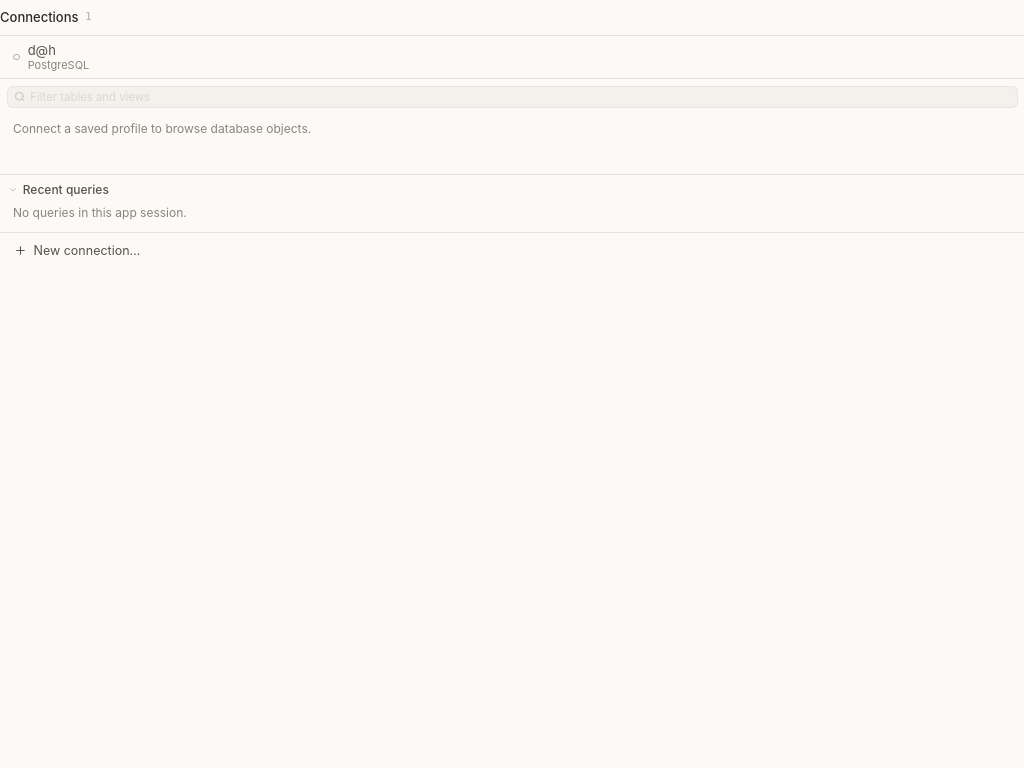
Scenario: DatabaseNavContent saved connections › keeps the database navigation usable after a successful reconnect closes automatically
Click the text "d@h" at x=42, y=50, box [28,42,56,58]
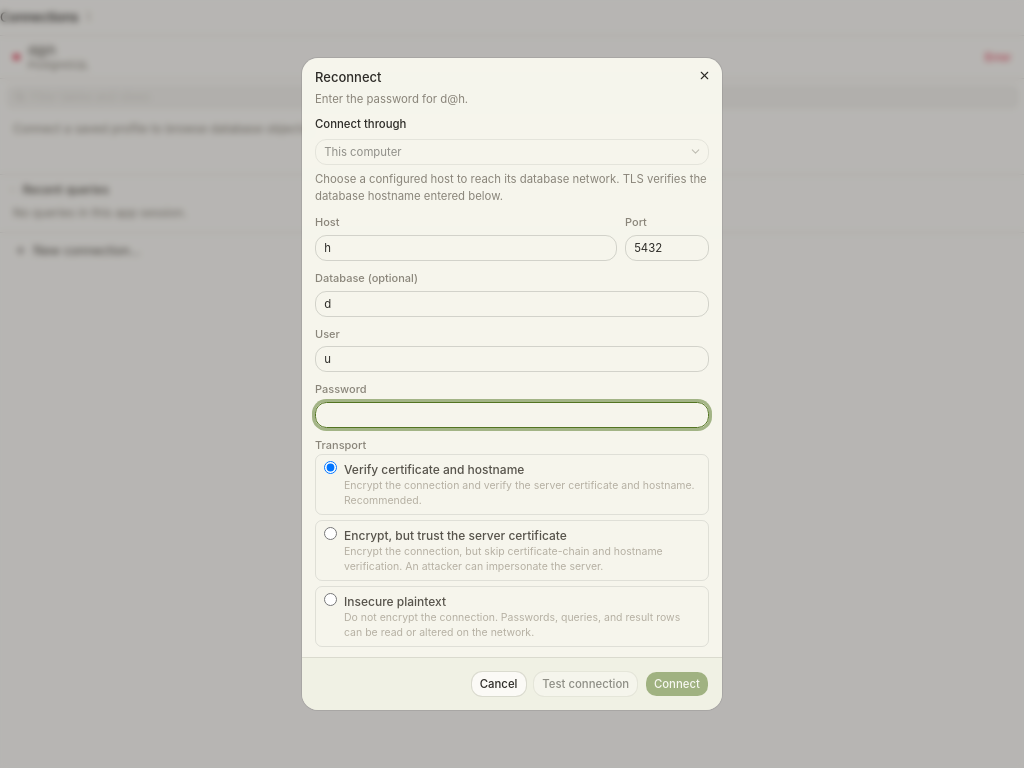
Type "valid-password" into the password field labelled "Password" at x=512, y=415, box [315,402,709,428]
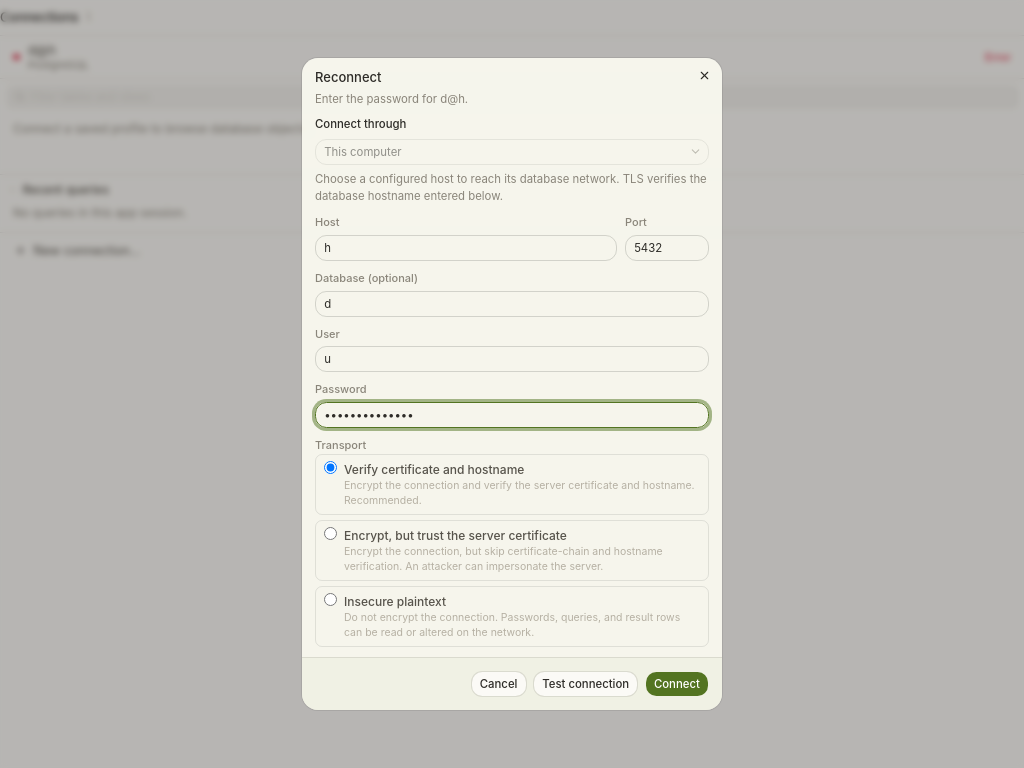
Click the button "Connect" at x=677, y=684, box [645,671,709,697]
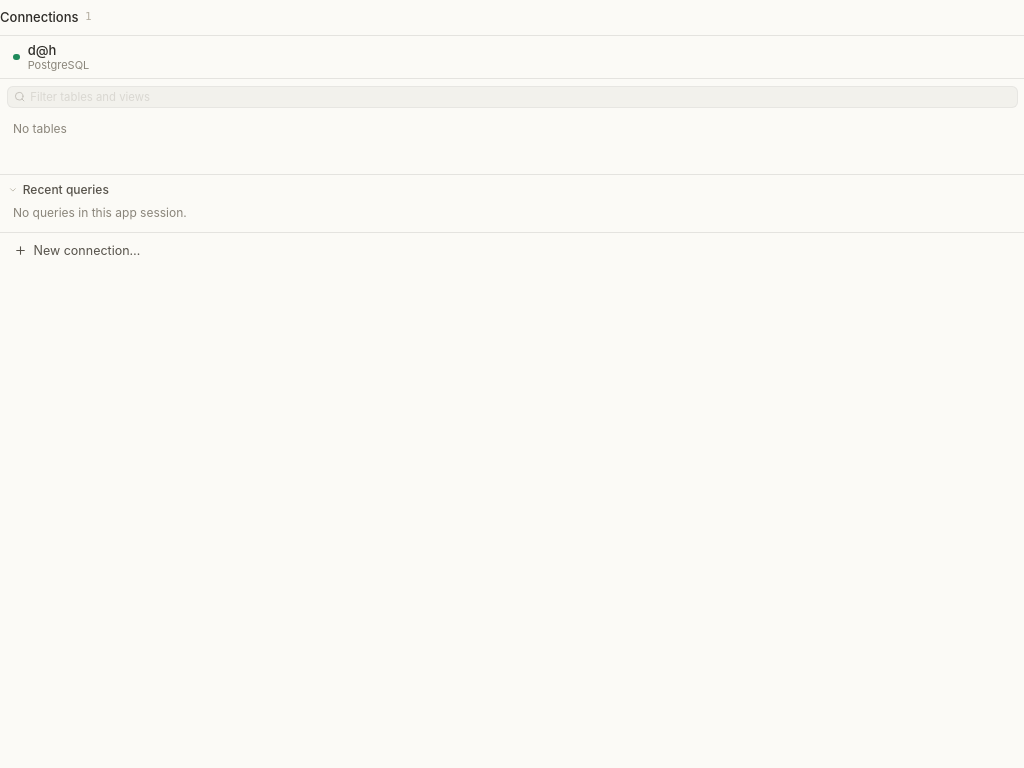
Expected: the text "d@h" is shown, [28,42,56,58]
Expected: the dialog is gone
